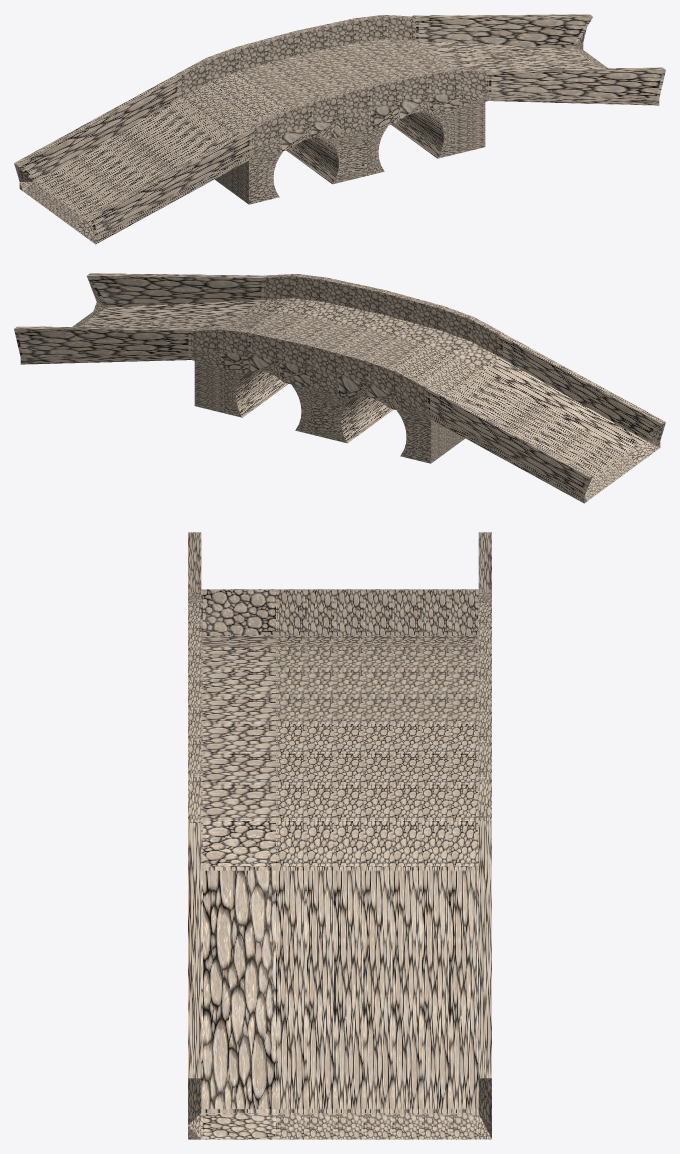
Rendered from ponte.obj.
The picture shows the model from 3 angles, top to bottom: view 1: azimuth 30°, elevation 25°; view 2: azimuth 150°, elevation 25°; view 3: azimuth 270°, elevation 25°; orthographic projection. The views are drawn at different scales.
Visible parts, largest first — view 1: Cube_Cube.001; view 2: Cube_Cube.001; view 3: Cube_Cube.001.
Part boxes in pixels (x1,y1,x2,y2): Cube_Cube.001: (14,14,665,244); Cube_Cube.001: (14,273,665,503); Cube_Cube.001: (188,532,491,1139).
Bounding box in the file's own units: 53.43 × 8.12 × 12.22.
